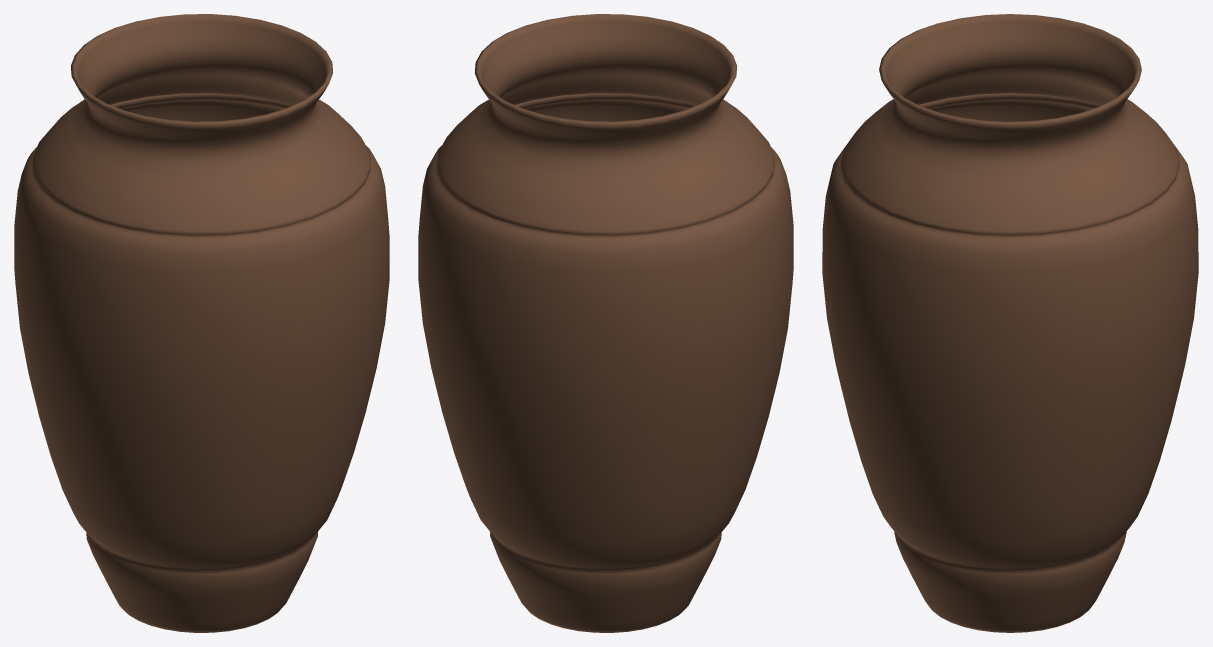
Rendered from uploads_files_3086046_Vazo.fbx.
The picture shows the model from 3 angles, left to right: view 1: azimuth 30°, elevation 25°; view 2: azimuth 150°, elevation 25°; view 3: azimuth 270°, elevation 25°; orthographic projection.
Parts seen in each view (by area): view 1: Circle_Circle.002; view 2: Circle_Circle.002; view 3: Circle_Circle.002.
Part boxes in pixels (x1,y1,x2,y2): Circle_Circle.002: [14, 14, 389, 632]; Circle_Circle.002: [418, 14, 793, 632]; Circle_Circle.002: [822, 14, 1198, 632].
Size of the model in its own units: 172 by 270 by 172.
